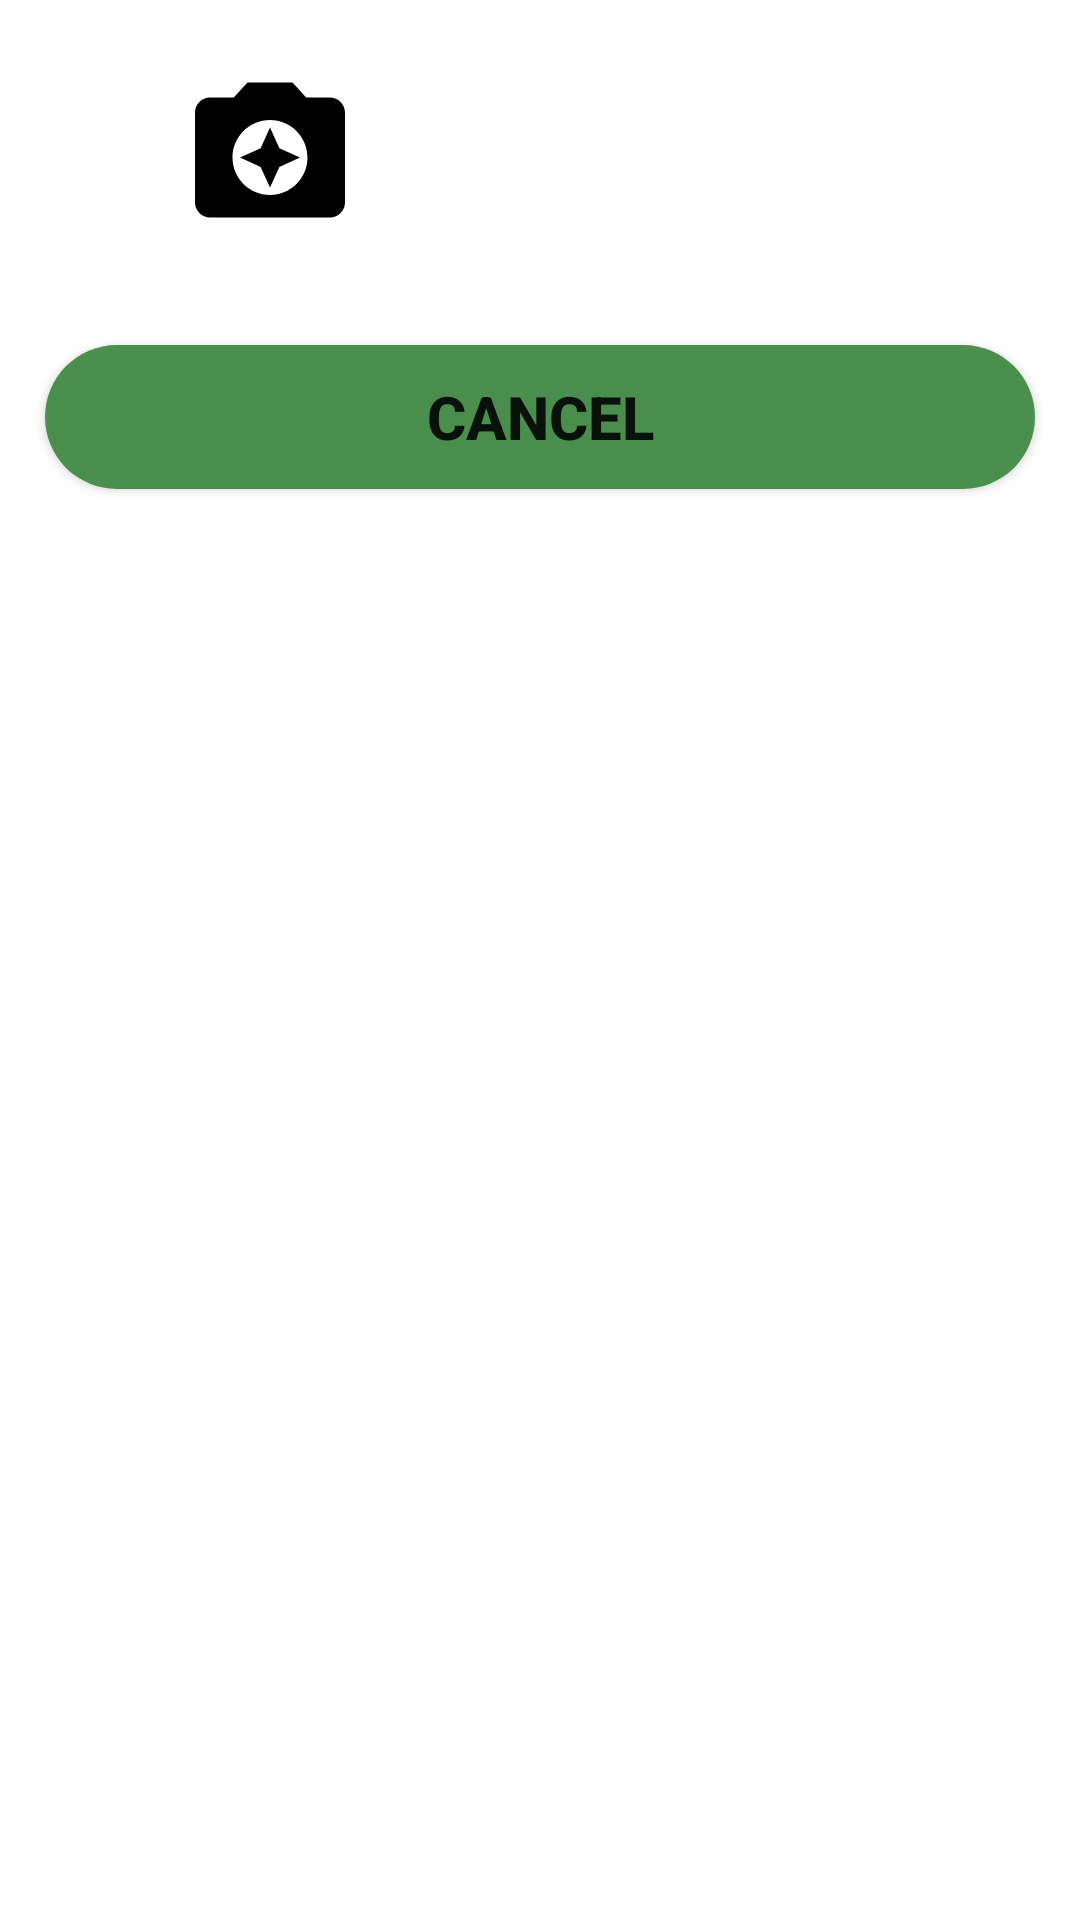

Icon bounding boxes for this 1080 × 1920 phone screenshot, format (x1, y1, x2, y2):
camera: (195, 82, 345, 218)
